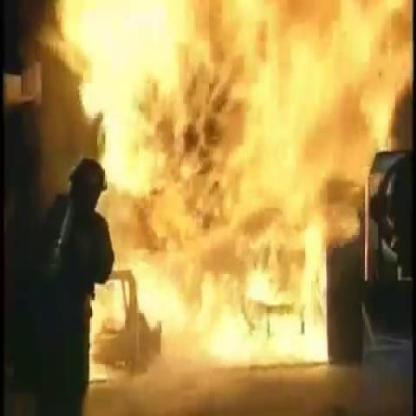Fire: (54, 0, 416, 366)
